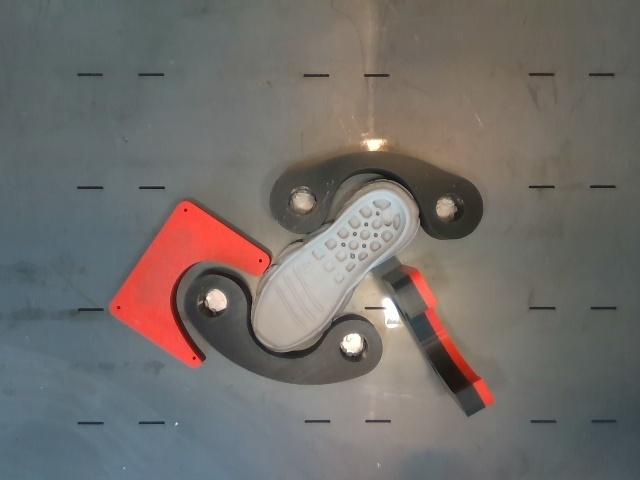shoes: (254, 192, 406, 349)
